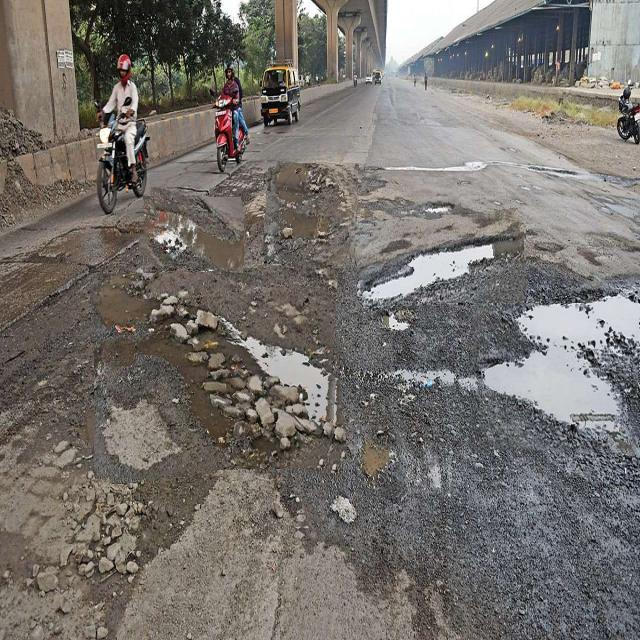Pothole: (94, 268, 344, 479), (470, 303, 640, 453), (355, 212, 526, 306), (264, 163, 359, 268), (140, 191, 244, 271), (355, 422, 406, 499), (415, 180, 461, 216)
